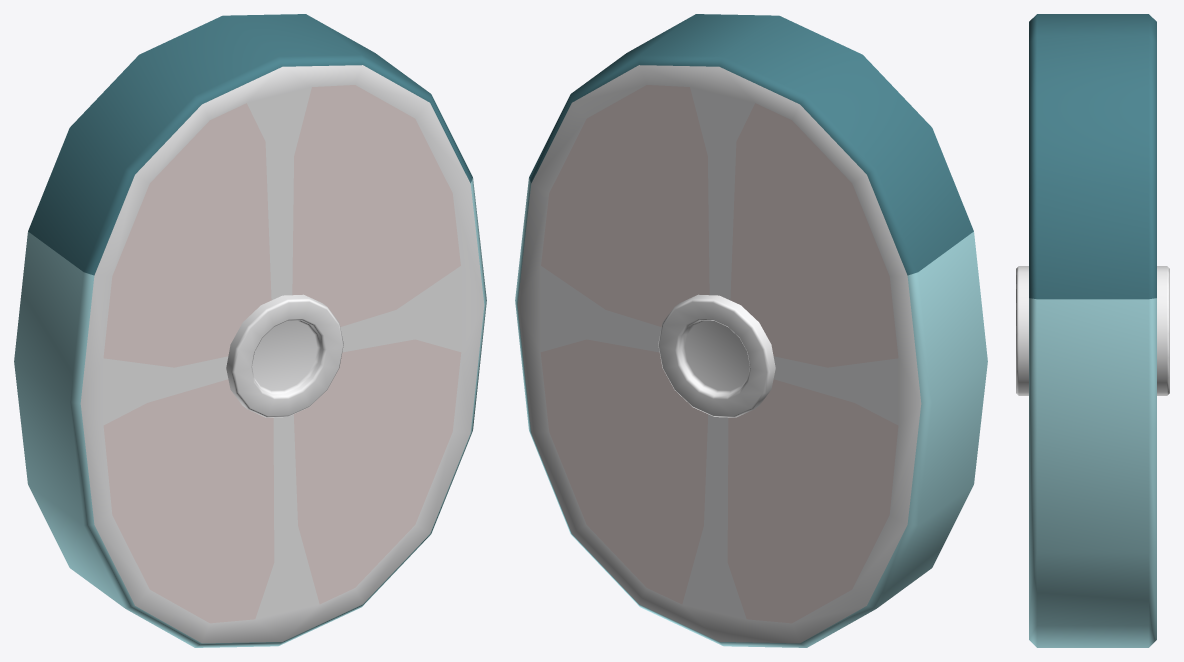
Rendered from SeaBass_1_Slice.fbx.
The picture shows the model from 3 angles, left to right: view 1: azimuth 30°, elevation 25°; view 2: azimuth 150°, elevation 25°; view 3: azimuth 270°, elevation 25°; orthographic projection.
Parts seen in each view (by area): view 1: SeaBass_1_Slice; view 2: SeaBass_1_Slice; view 3: SeaBass_1_Slice.
Boxes of the visible parts, bbox=[...] form: SeaBass_1_Slice: bbox=[14, 14, 486, 647]; SeaBass_1_Slice: bbox=[515, 14, 987, 647]; SeaBass_1_Slice: bbox=[1016, 14, 1169, 647].
Bounding box in the file's own units: 20.49 × 27.69 × 6.55.
